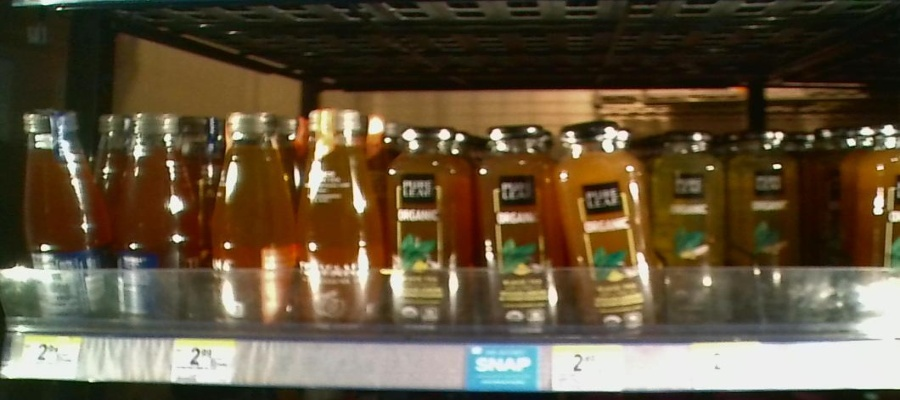bottle: (15, 107, 111, 333), (558, 117, 656, 335), (115, 108, 204, 338), (208, 107, 296, 335), (385, 122, 477, 333), (300, 105, 380, 337), (480, 123, 556, 329), (731, 128, 804, 320), (659, 129, 728, 328)
